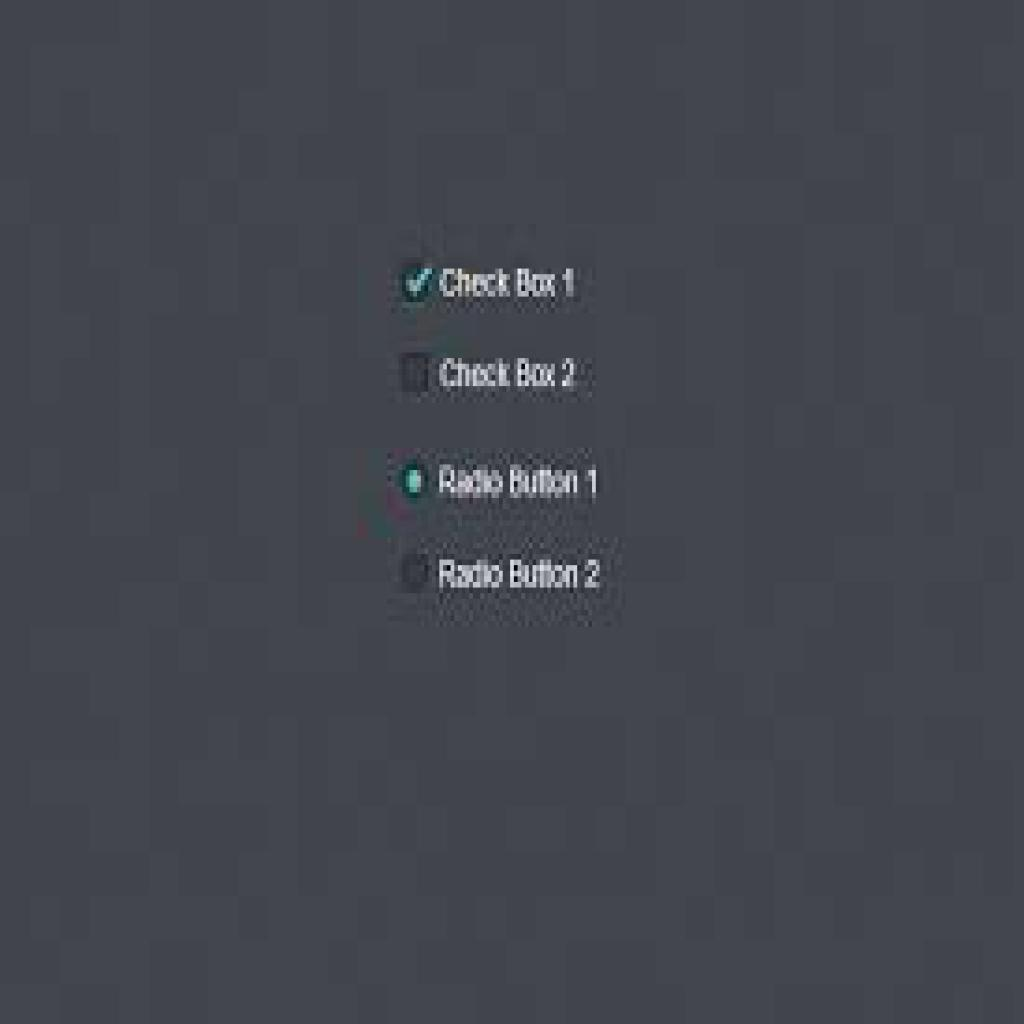checkbox: (400, 259, 434, 311), (399, 353, 432, 394)
radio: (401, 459, 430, 504), (404, 551, 429, 591)
